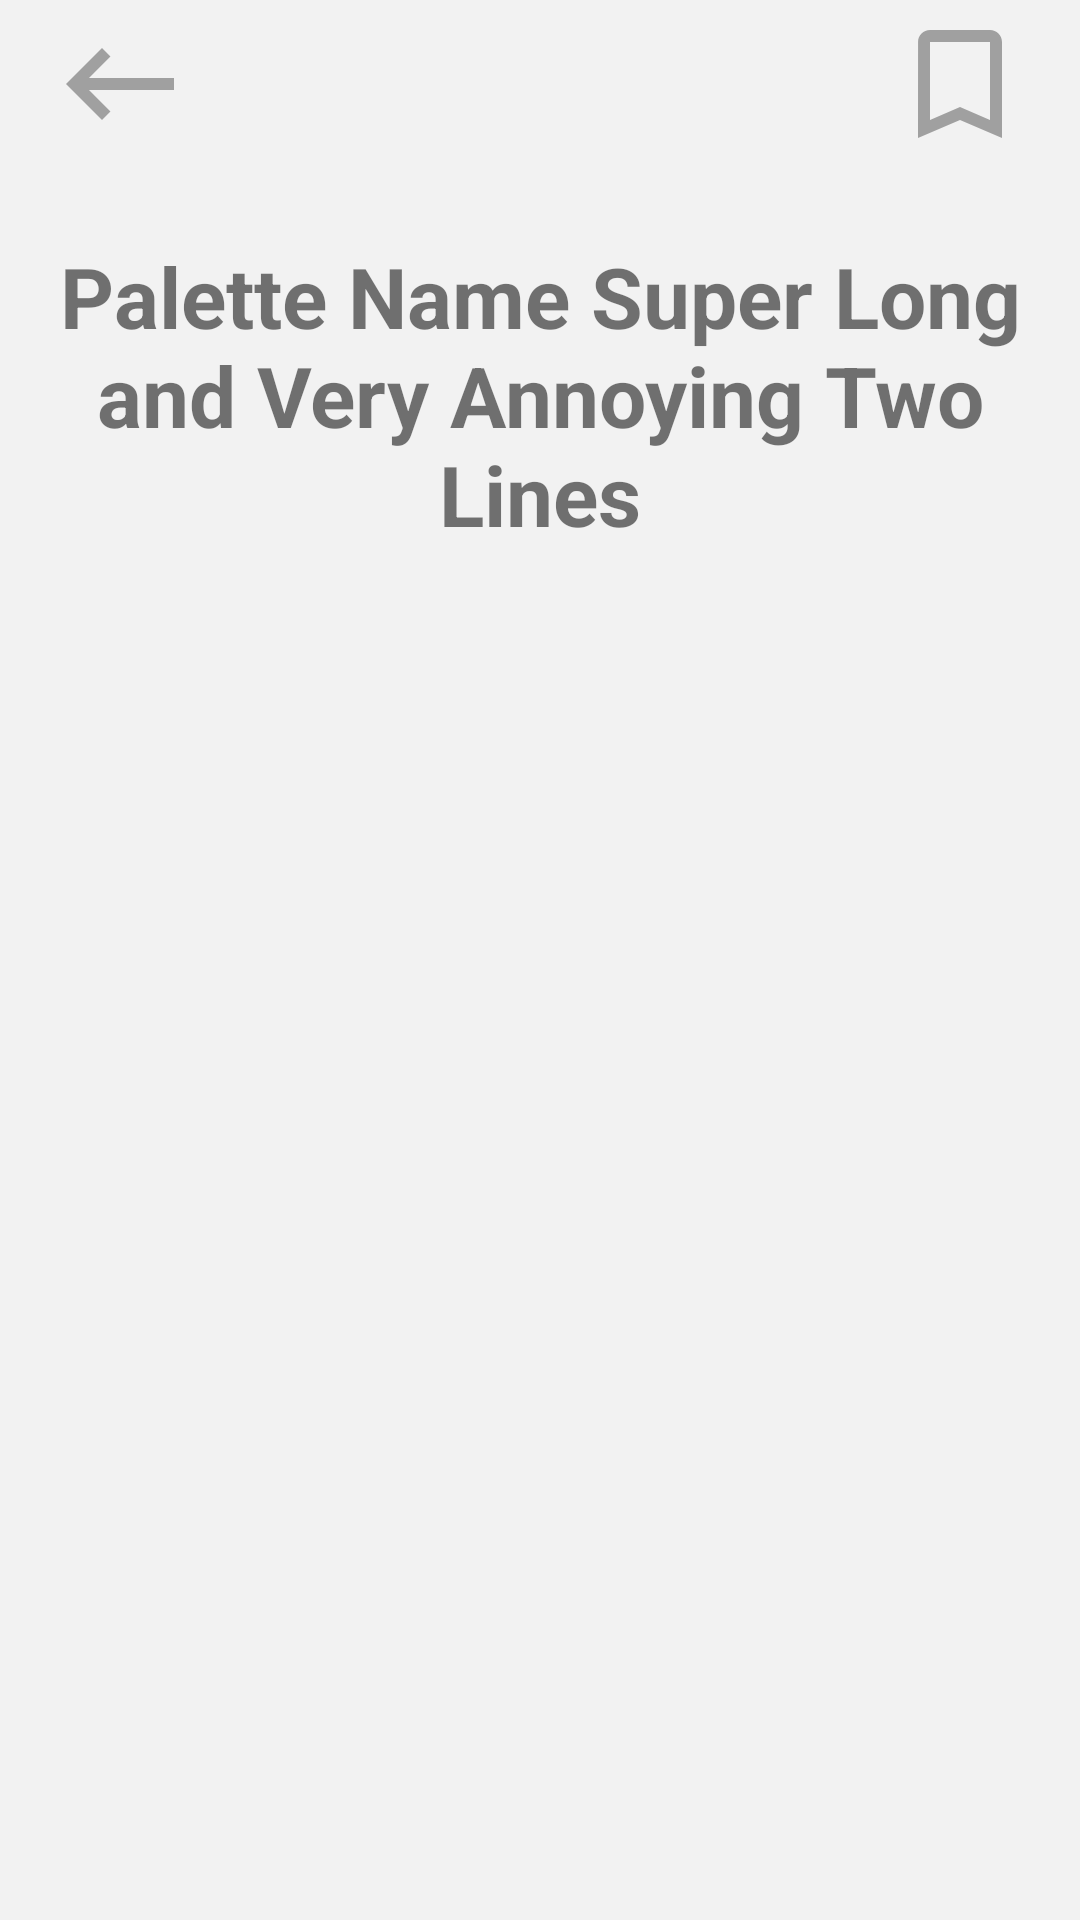

Icons on this 1080×1920 Android screen, each with the point to tap as (x=x, y=y):
bookmark border: (x=960, y=84)
keyboard backspace: (x=120, y=84)
